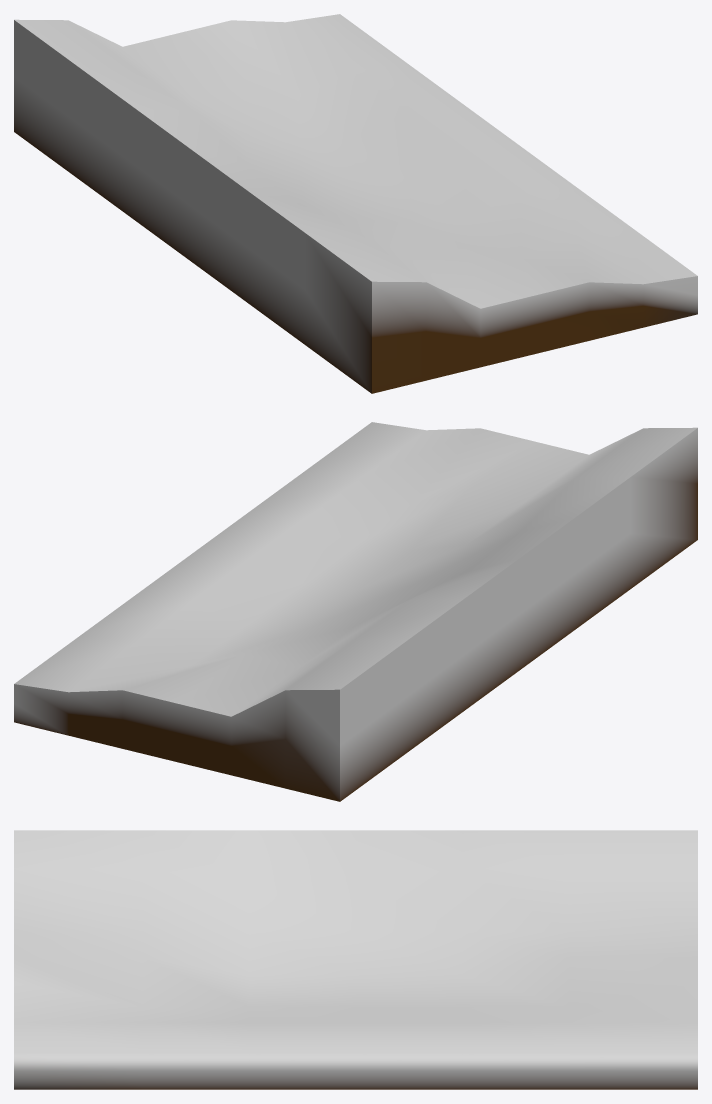
Rendered from Chao.fbx.
3 renders of one model, top to bottom at view 1: azimuth 30°, elevation 25°; view 2: azimuth 150°, elevation 25°; view 3: azimuth 270°, elevation 25°, orthographic. The views are drawn at different scales.
Visible parts, largest first — view 1: Chão; view 2: Chão; view 3: Chão.
Boxes of the visible parts, x1=… form: Chão: x1=14, y1=14, x2=697, y2=393; Chão: x1=14, y1=422, x2=697, y2=801; Chão: x1=14, y1=830, x2=697, y2=1089.
Size of the model in its own units: 1189 by 391 by 2260.
